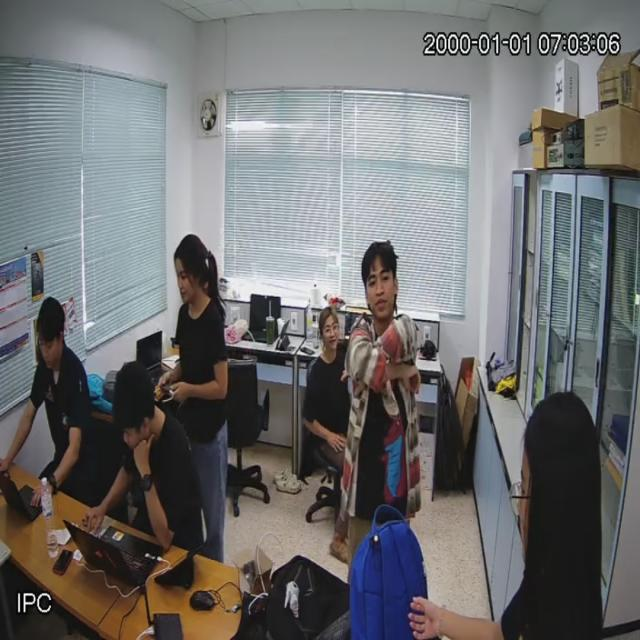normal: (346, 241, 418, 528), (88, 370, 200, 552), (0, 296, 94, 504), (175, 236, 232, 557)
